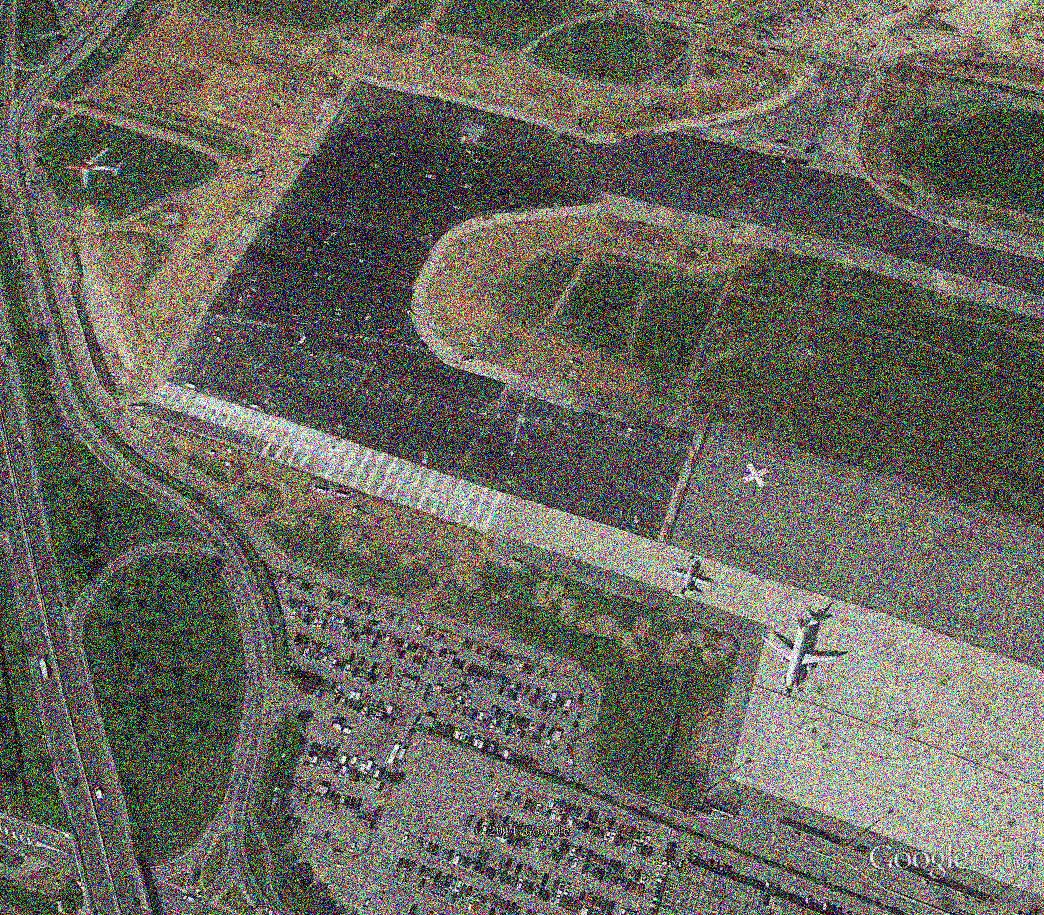aircraft: (758, 612, 846, 698), (61, 146, 128, 194), (664, 561, 716, 603)
